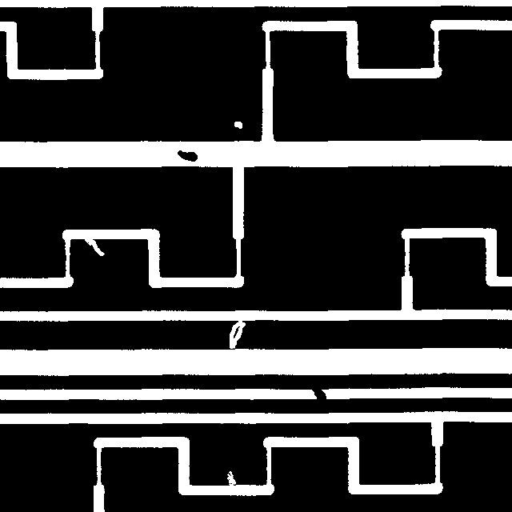copper: (170, 142, 205, 169)
mousebite: (77, 229, 112, 263), (219, 463, 243, 498)
open: (222, 312, 253, 356)
pin-hole: (226, 114, 250, 136)
short: (304, 374, 334, 412)
